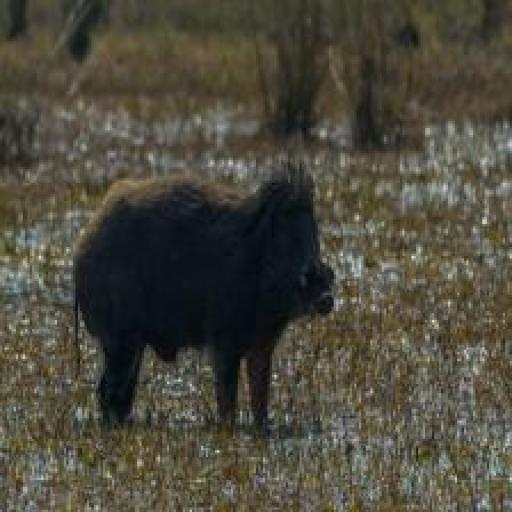Pig: (62, 158, 340, 434)
